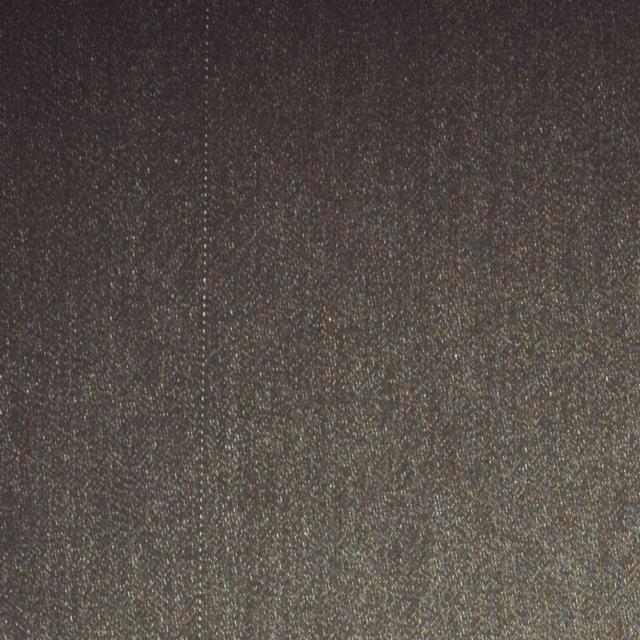Warp_Weft: (194, 0, 214, 638)
